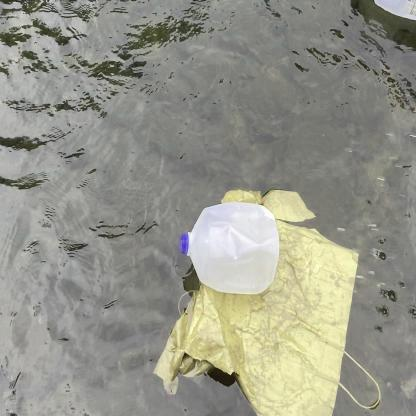Plastic: (175, 197, 281, 300), (368, 0, 416, 28)
Trash: (149, 181, 393, 416)
